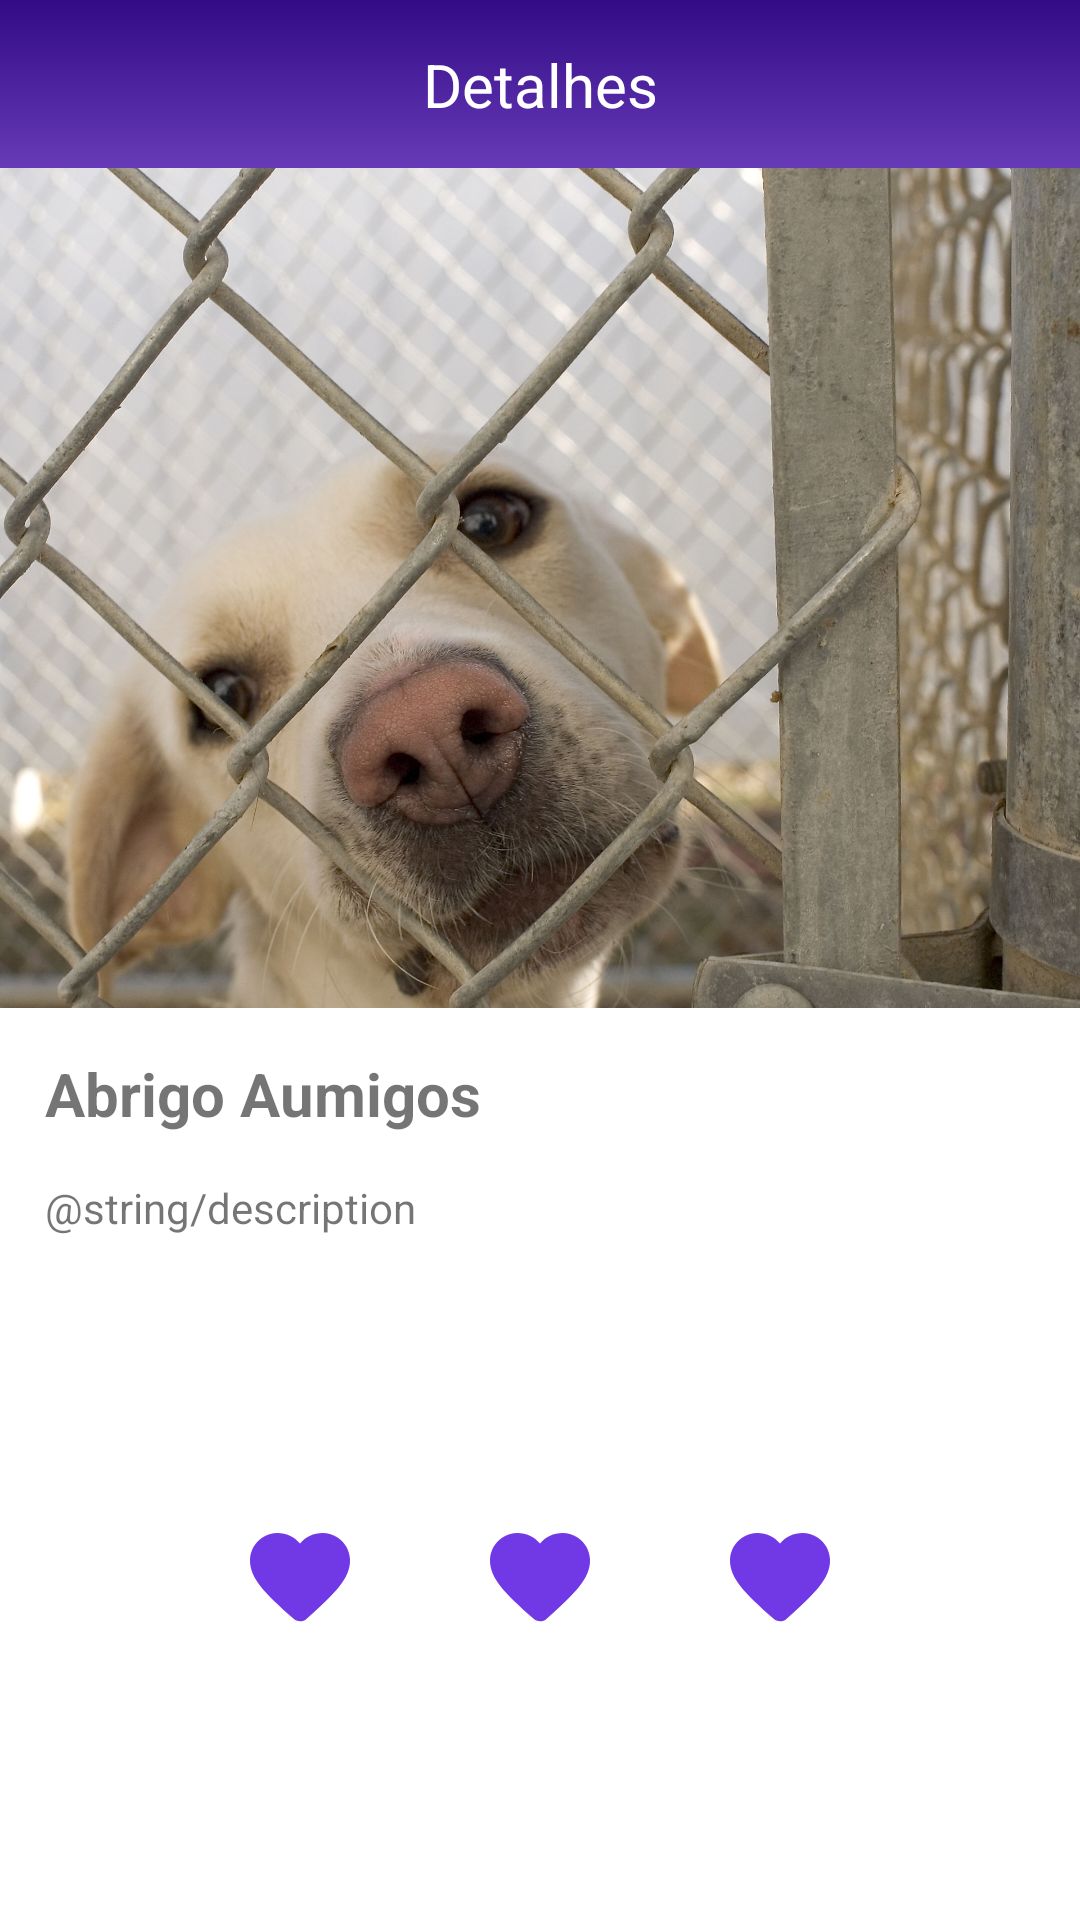

Screen size 1080px×1920px. Icon name, then its box in pixels as (x1, y1, x2, y2):
favorite: (250, 1533, 350, 1622), (490, 1533, 590, 1622), (730, 1533, 830, 1622)
